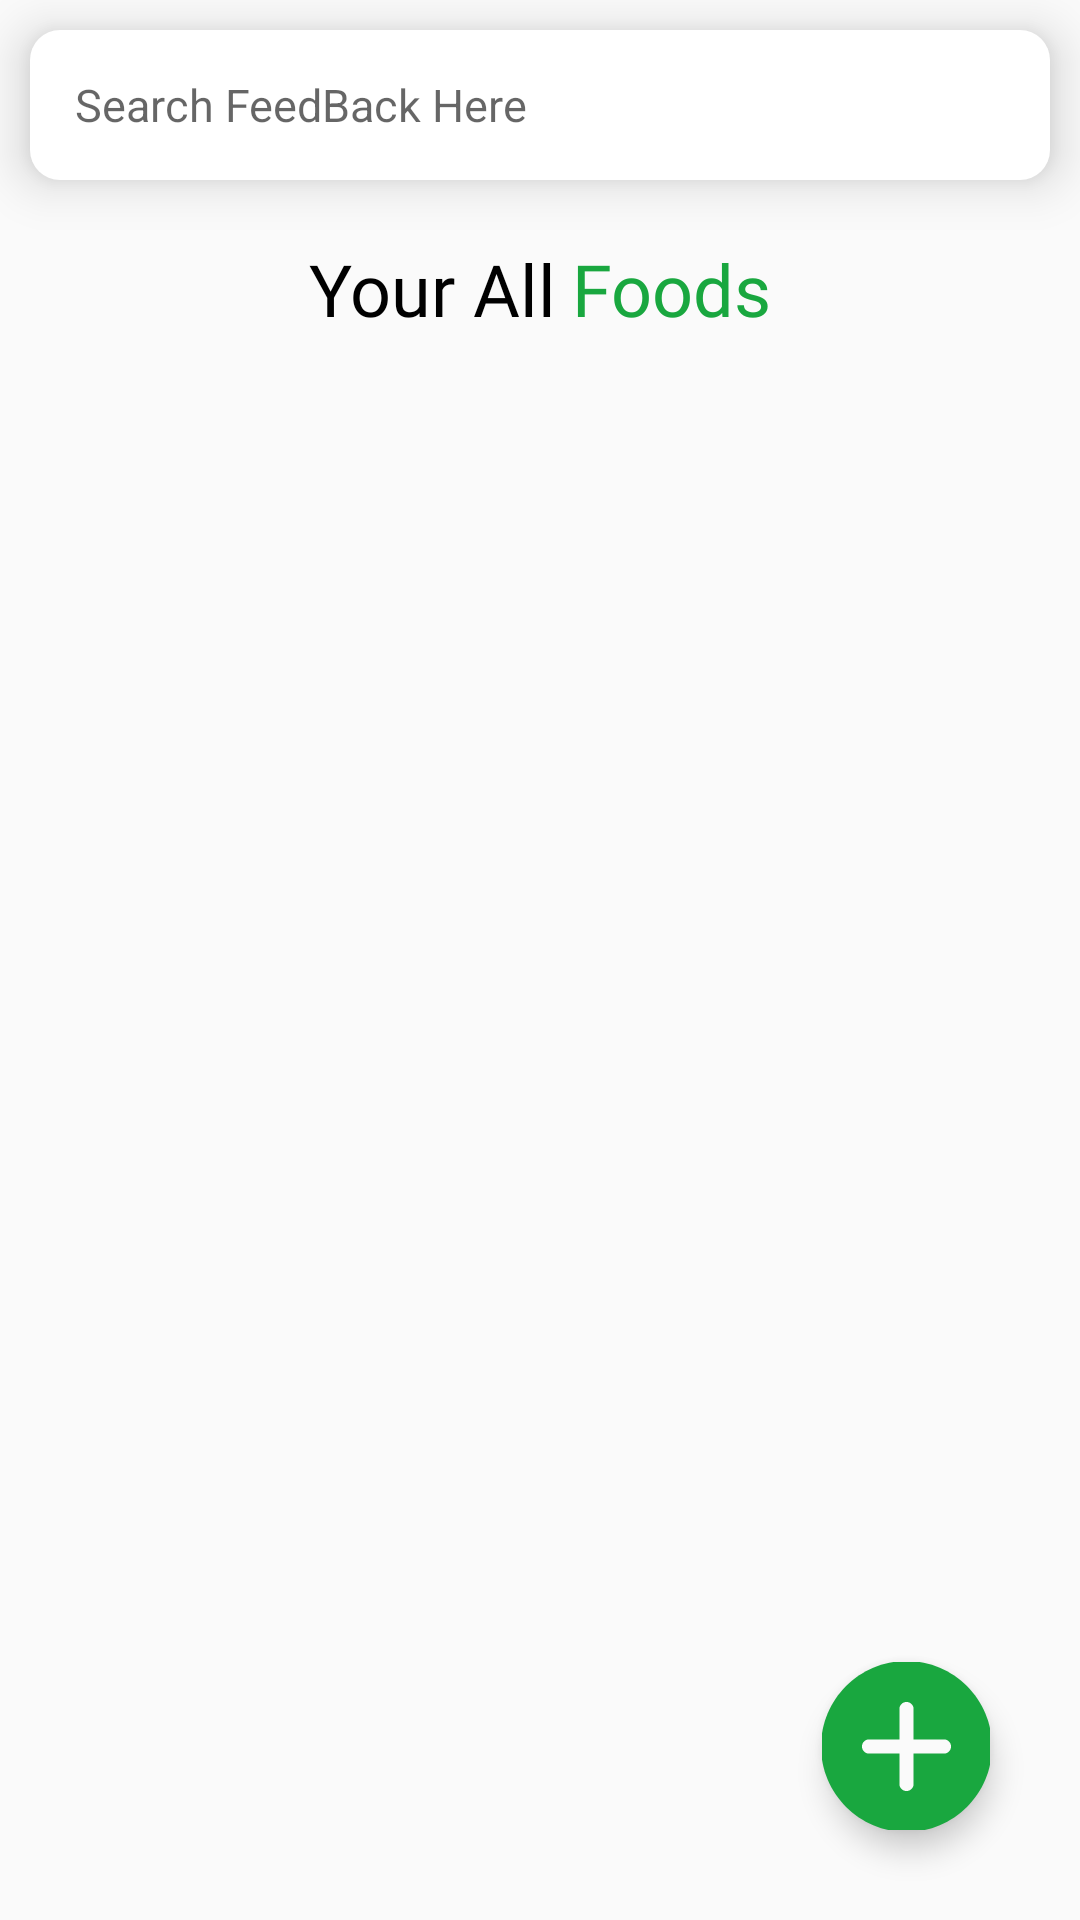

Where to tap for icons on this 1080 × 1920 app screen, as point (x, y):
addbtnsvg: point (906, 1746)
